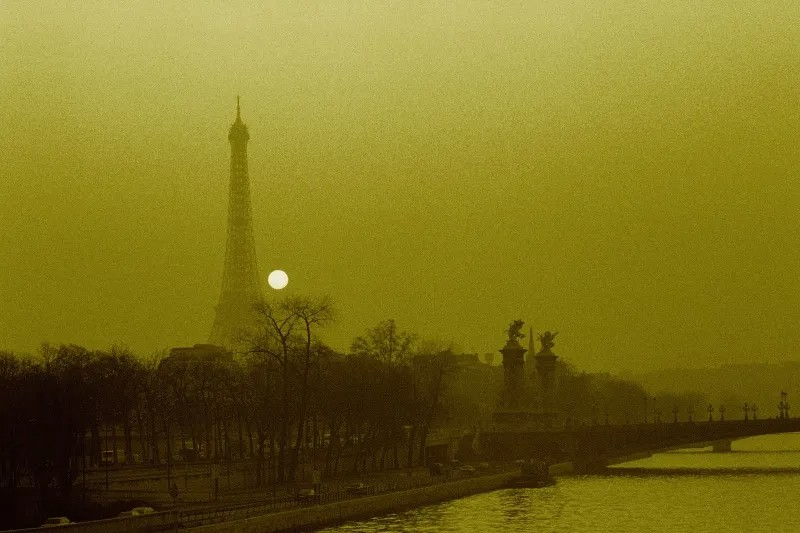Eiffel: (206, 95, 279, 365)
